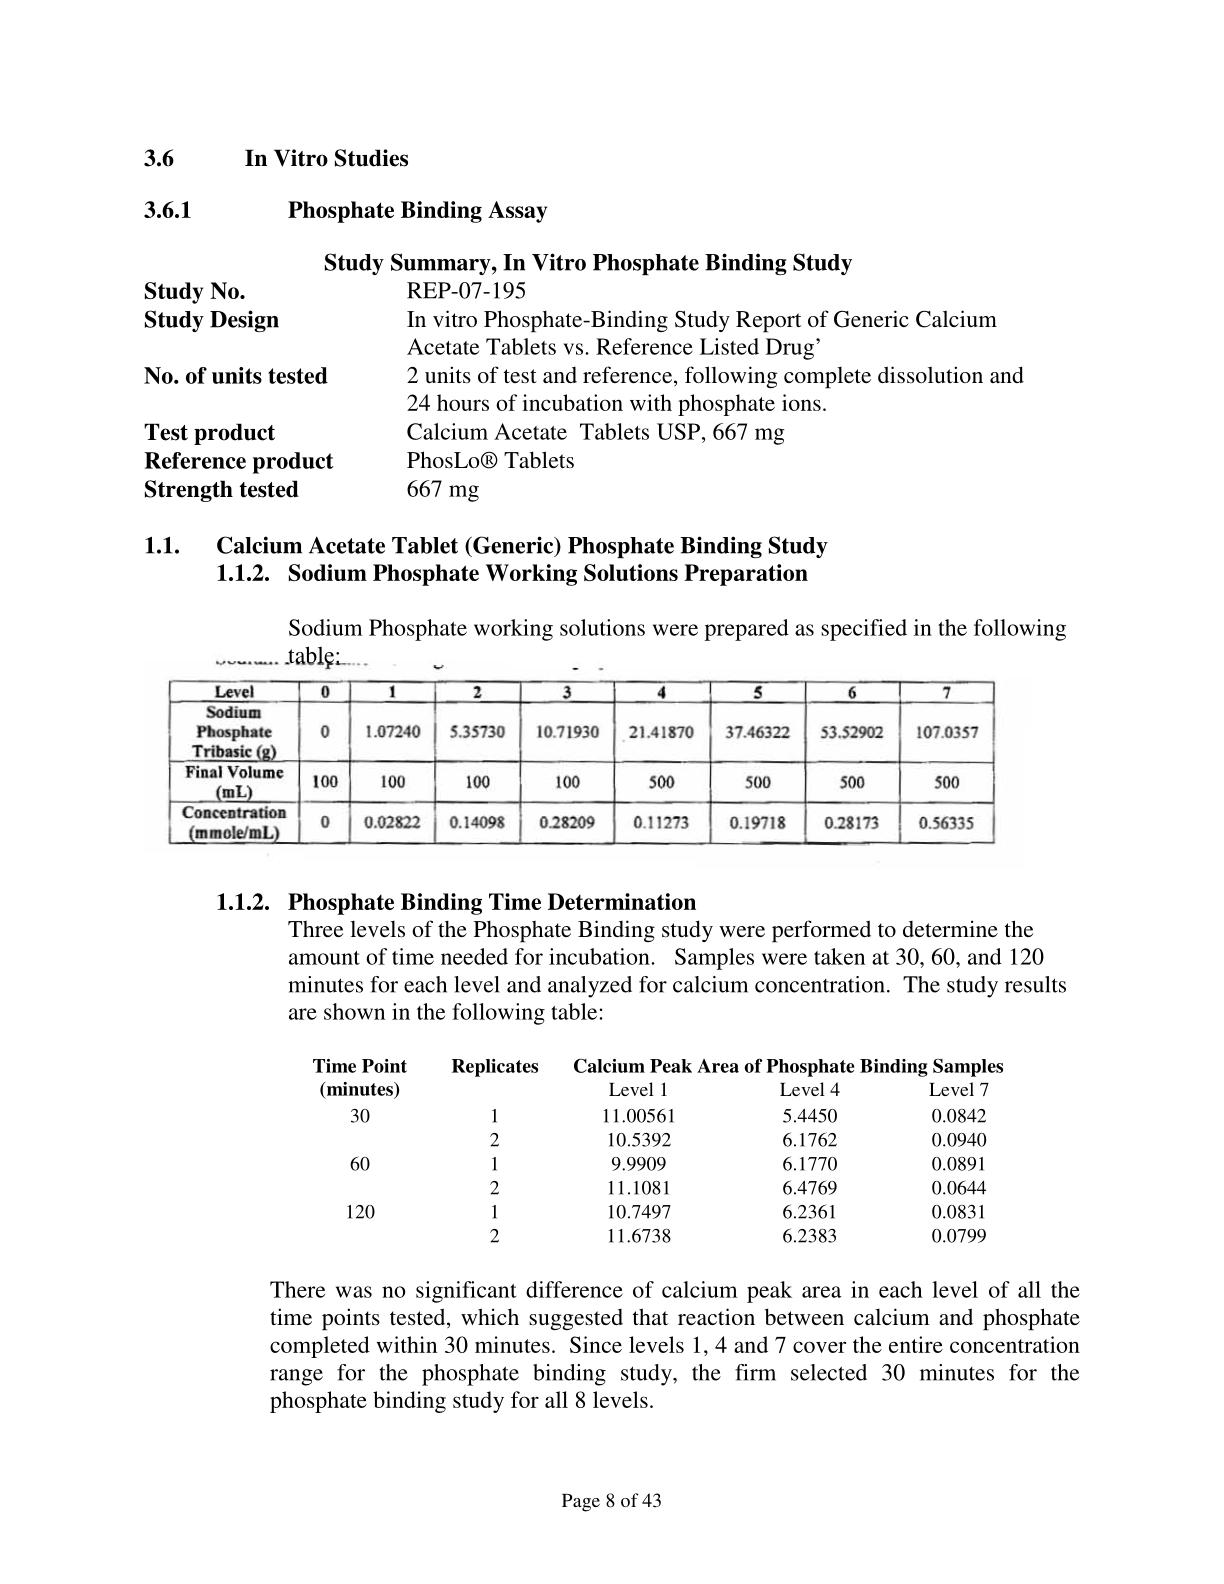full_lined: (167, 679, 996, 845)
nolines: (141, 252, 1023, 503), (310, 1054, 1005, 1247)
